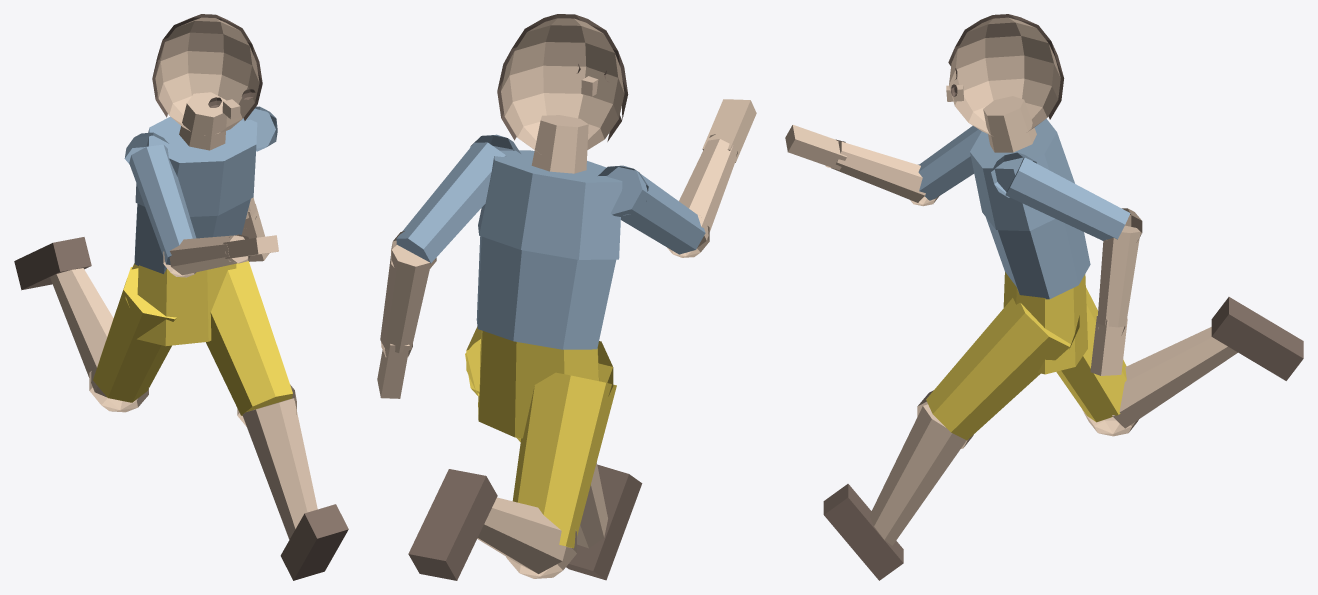
File: low-poly-character-figures-child-running-37c954ea__36352.glb
3 renders of one model, left to right at view 1: azimuth 30°, elevation 25°; view 2: azimuth 150°, elevation 25°; view 3: azimuth 270°, elevation 25°, orthographic. The views are drawn at different scales.
Parts seen in each view (by area): view 1: child-running; view 2: child-running; view 3: child-running.
Part boxes in pixels (bbox=[...]): child-running: bbox=[14, 14, 348, 580]; child-running: bbox=[377, 14, 756, 580]; child-running: bbox=[785, 14, 1303, 580].
Size of the model in its own units: 0.4035 by 1.07 by 0.934.
